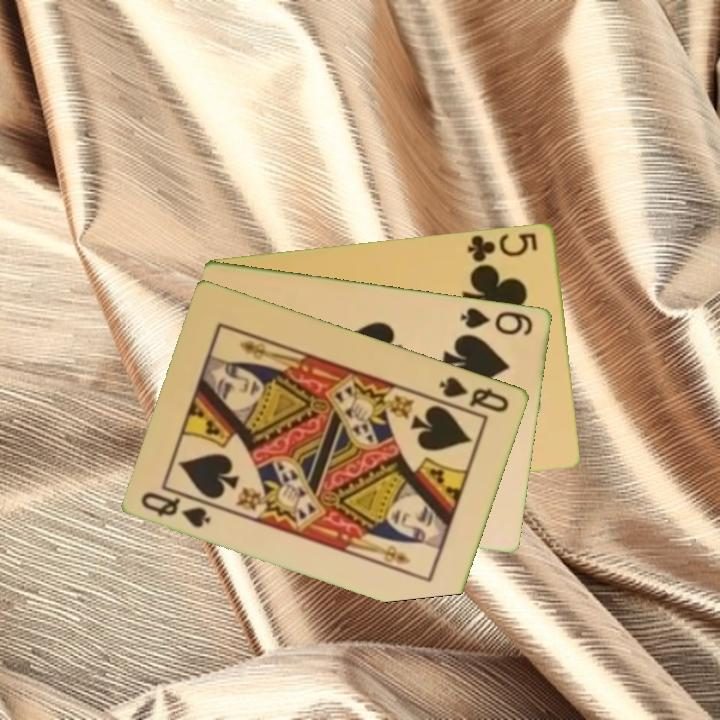5c: (464, 228, 541, 268)
6s: (457, 303, 536, 338)
Qs: (436, 372, 513, 415), (138, 488, 214, 531)
